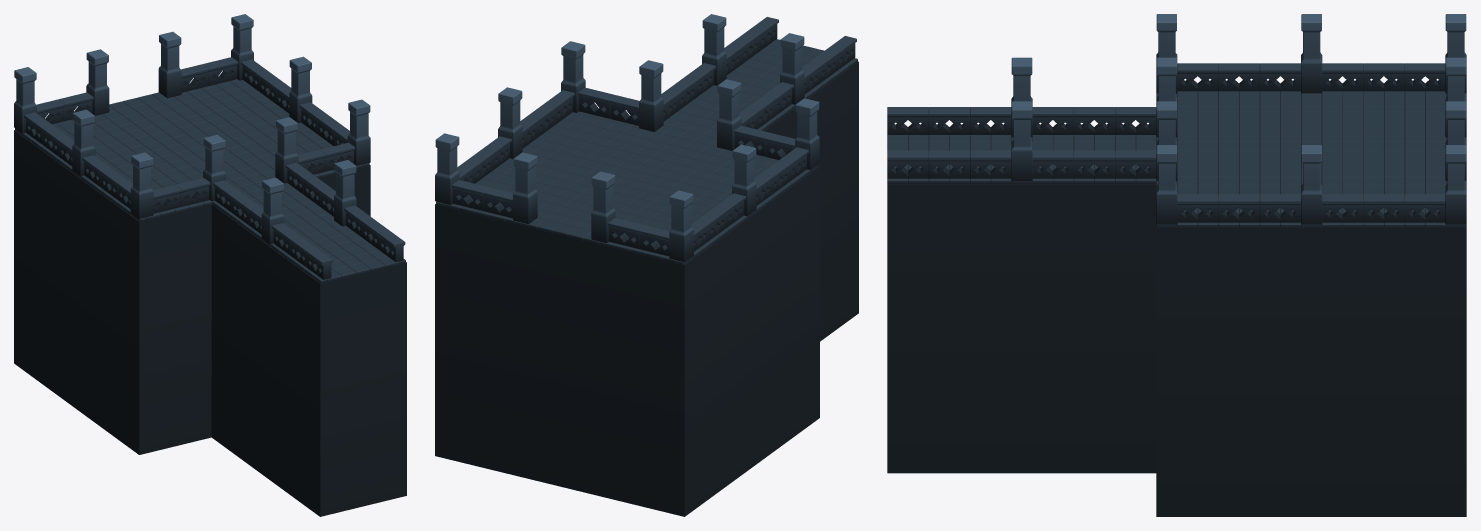
3 views of the same model, side by side, from view 1: azimuth 30°, elevation 25°; view 2: azimuth 150°, elevation 25°; view 3: azimuth 270°, elevation 25° (orthographic). The views are drawn at different scales.
Visible parts, largest first — view 1: BattleArena, Bridge, GroundPlate, Fence, Column.002, Column.003, GroundPlate.001, Fence.001, Fence.004, Fence.002, Fence.003, Column (+3 smaller); view 2: BattleArena, GroundPlate, Bridge, Column.002, Fence, Column.003, GroundPlate.001, Fence.001, Fence.003, Fence.002, Fence.004, Column (+3 smaller); view 3: BattleArena, Bridge, GroundPlate, Fence.003, Fence.004, Fence.001, Fence.002, Column.003, GroundPlate.001, Column.002, Column, Column.001 (+2 smaller).
Part boxes in pixels (left/top/right/bottom): BattleArena: left=14, top=130, right=370, bottom=454; Bridge: left=211, top=204, right=406, bottom=516; GroundPlate: left=52, top=79, right=363, bottom=219; Fence: left=36, top=57, right=354, bottom=213; Column.002: left=86, top=31, right=298, bottom=201; Column.003: left=14, top=14, right=370, bottom=218; GroundPlate.001: left=243, top=183, right=399, bottom=281; Fence.001: left=271, top=205, right=405, bottom=279; Fence.004: left=24, top=59, right=291, bottom=166; Fence.002: left=213, top=162, right=335, bottom=234; Fence.003: left=82, top=102, right=349, bottom=208; Column: left=72, top=56, right=312, bottom=175; BattleArena: left=435, top=166, right=819, bottom=516; GroundPlate: left=443, top=111, right=778, bottom=263; Bridge: left=750, top=61, right=858, bottom=341; Column.002: left=513, top=60, right=741, bottom=243; Fence: left=452, top=87, right=795, bottom=256; Column.003: left=435, top=41, right=819, bottom=262; GroundPlate.001: left=663, top=39, right=824, bottom=138; Fence.001: left=724, top=17, right=856, bottom=94; Fence.003: left=520, top=90, right=808, bottom=205; Fence.002: left=661, top=63, right=793, bottom=129; Fence.004: left=457, top=136, right=745, bottom=251; Column: left=498, top=87, right=756, bottom=216; BattleArena: left=1156, top=227, right=1466, bottom=516; Bridge: left=887, top=183, right=1156, bottom=473; GroundPlate: left=1156, top=91, right=1466, bottom=214; Fence.003: left=1177, top=63, right=1300, bottom=222; Fence.004: left=1322, top=63, right=1445, bottom=222; Fence.001: left=887, top=107, right=1011, bottom=178; Fence.002: left=1032, top=107, right=1156, bottom=178; Column.003: left=1156, top=14, right=1466, bottom=224; GroundPlate.001: left=887, top=135, right=1156, bottom=170; Column.002: left=1156, top=57, right=1466, bottom=180; Column: left=1301, top=14, right=1322, bottom=224; Column.001: left=1011, top=57, right=1032, bottom=180.
Size of the model in its own units: 1602 by 1938 by 2800.
